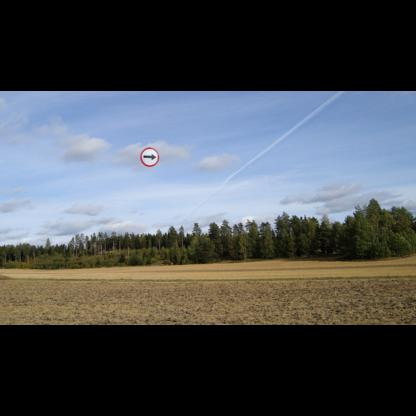R-24a: (140, 147, 159, 167)
